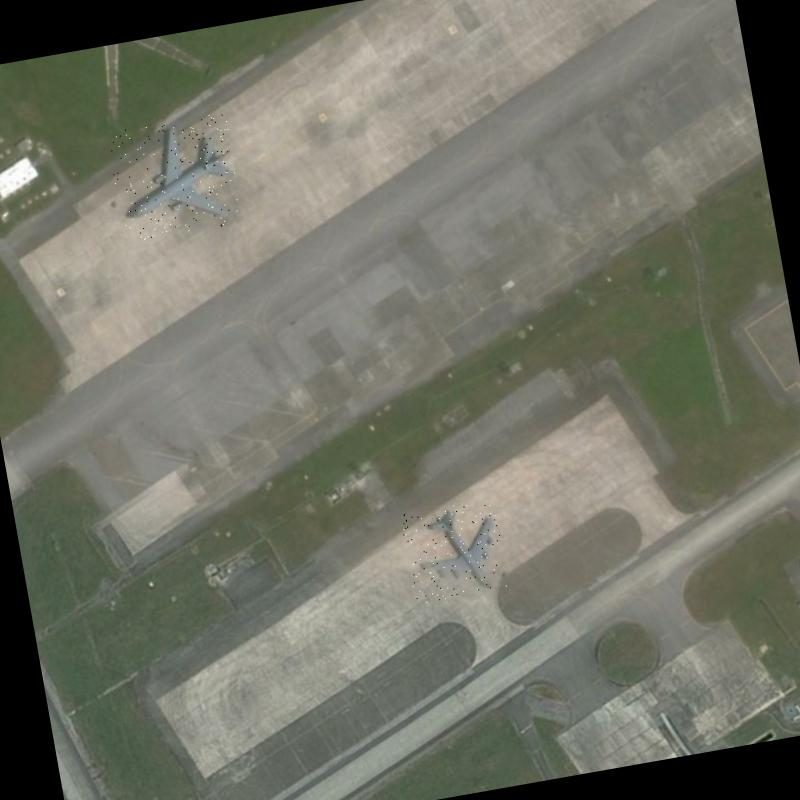A14: (400, 496, 510, 604)
A18: (106, 112, 246, 243)
